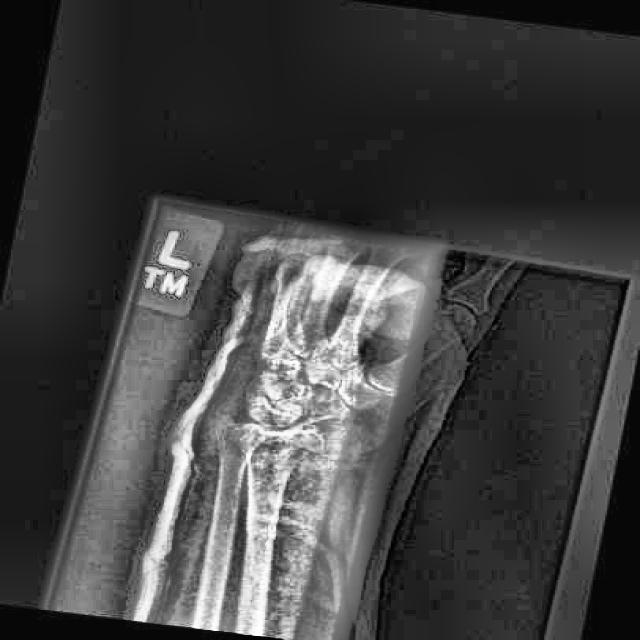wrist positive: (200, 438, 322, 484), (240, 397, 285, 424)
